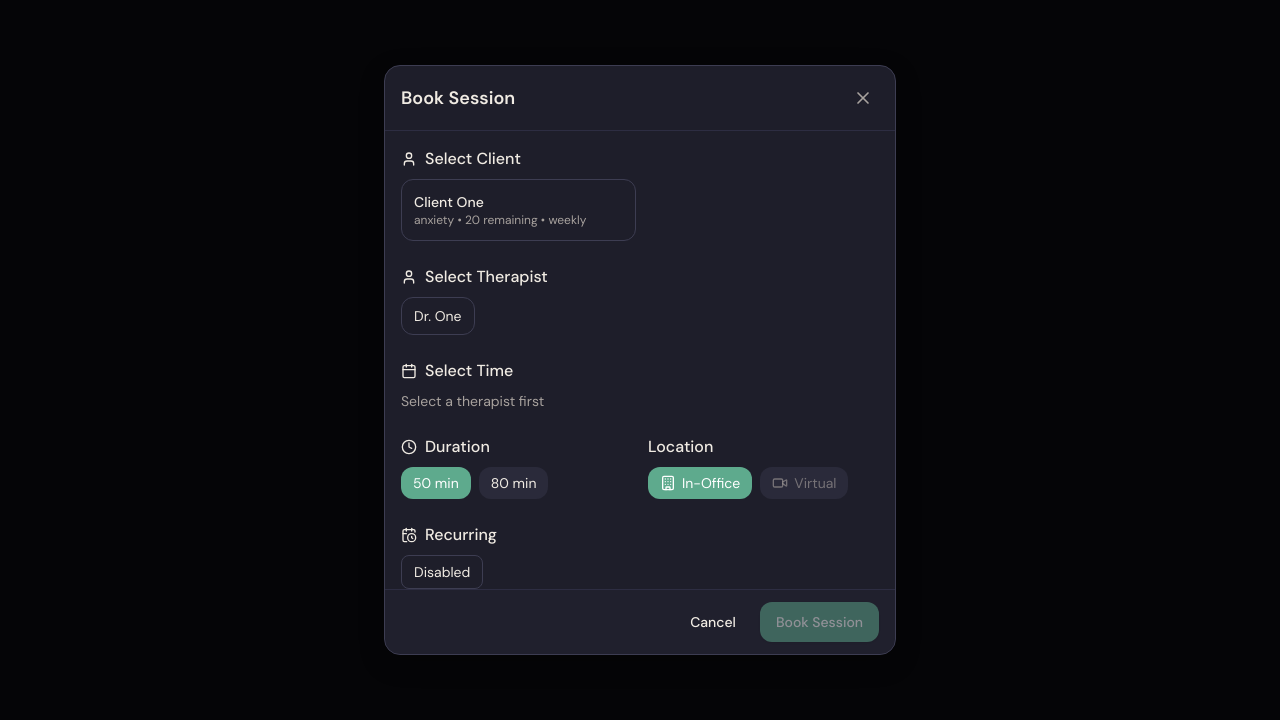
Test: BookingModal Auto-Population › sets recurring count to remaining sessions (capped at 20)
Note: Click on the client
Click the text "Client One": (449, 202) [414, 193, 484, 211]
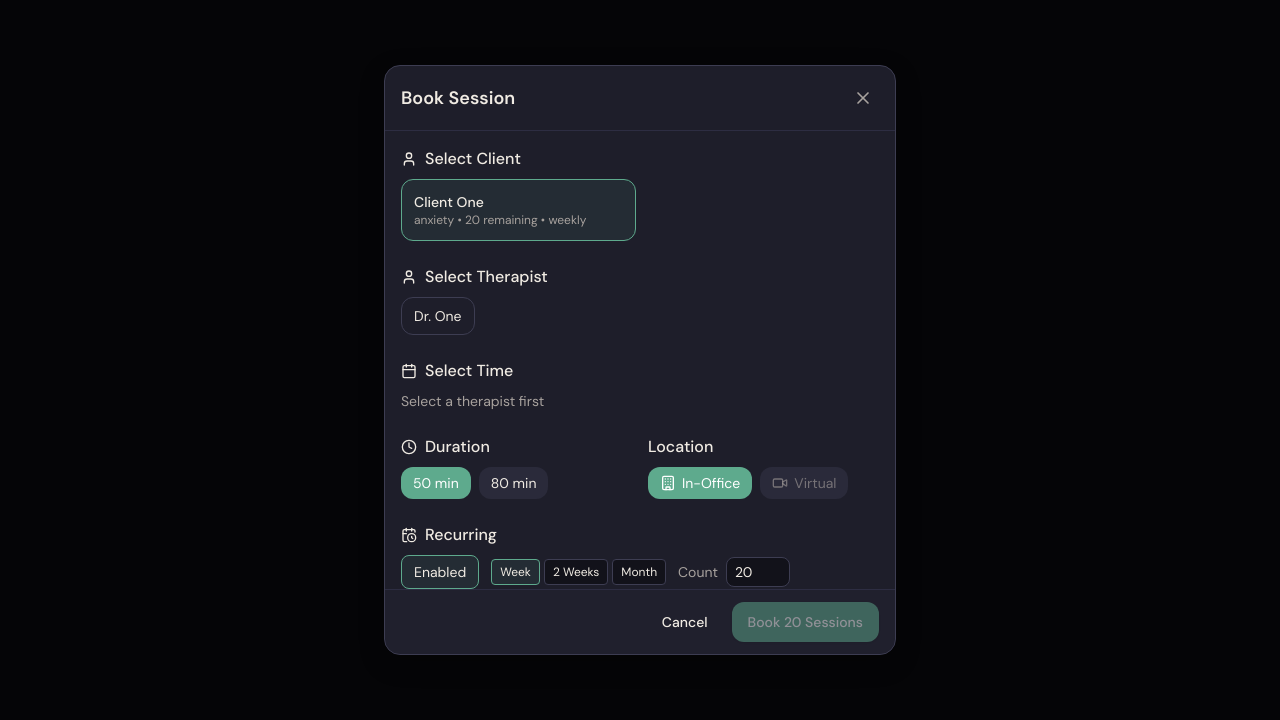
Check: the number field named "Recurring session count" holds "20", box [726, 557, 790, 587]
